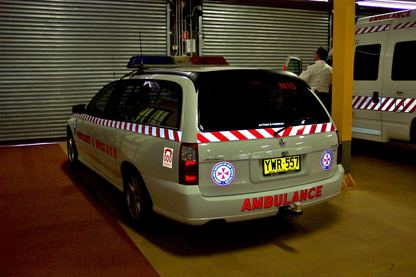ambulance: (65, 32, 345, 227), (283, 8, 416, 144)
